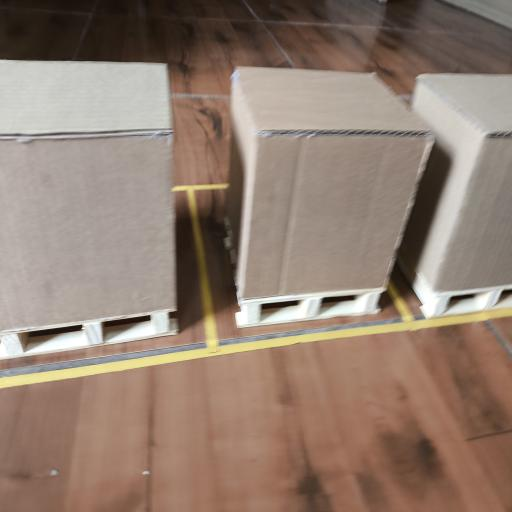pallet: (0, 311, 178, 357), (398, 259, 511, 318), (236, 289, 384, 327), (236, 290, 383, 327)
